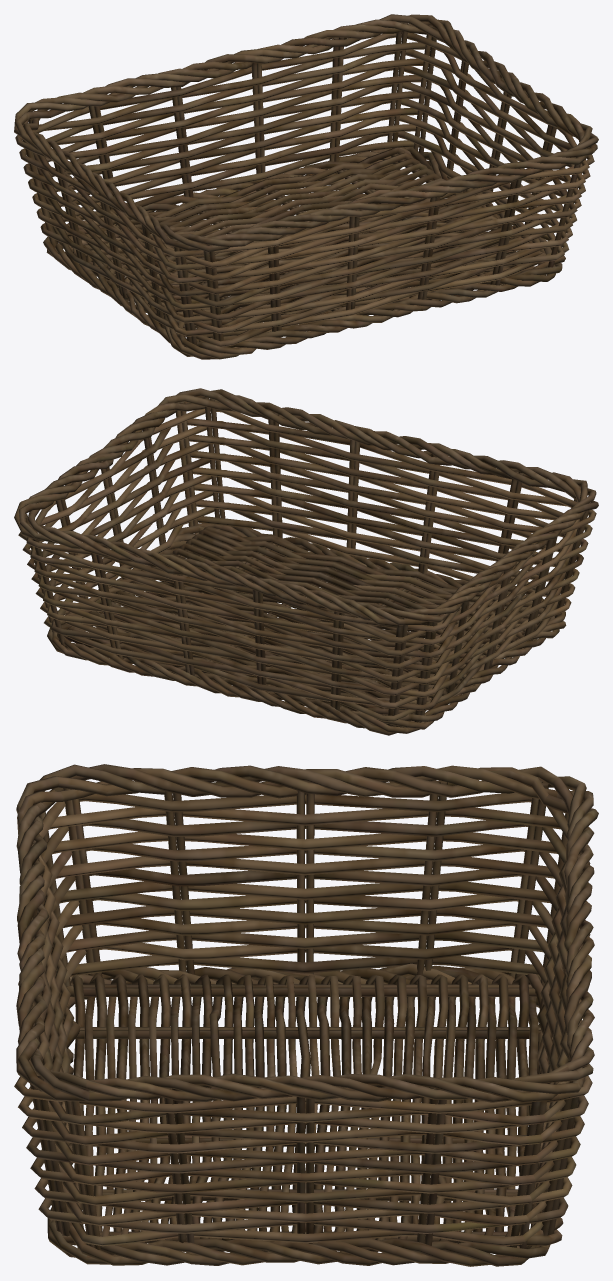
File: wicker_basket_01.glb
3 views of the same model, one above another, from view 1: azimuth 30°, elevation 25°; view 2: azimuth 150°, elevation 25°; view 3: azimuth 270°, elevation 25° (orthographic). The views are drawn at different scales.
Visible parts, largest first — view 1: wicker_basket_01; view 2: wicker_basket_01; view 3: wicker_basket_01.
Part boxes in pixels (bbox=[...]): wicker_basket_01: bbox=[14, 14, 598, 359]; wicker_basket_01: bbox=[14, 388, 598, 735]; wicker_basket_01: bbox=[14, 764, 598, 1266].
Bounding box in the file's own units: 0.3832 × 0.1174 × 0.295.
1 material, 1 textured.
